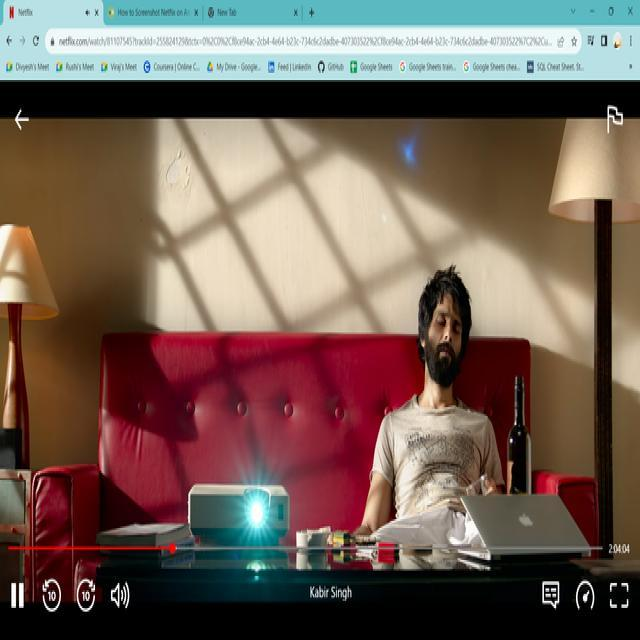smoking: (501, 374, 535, 494)
